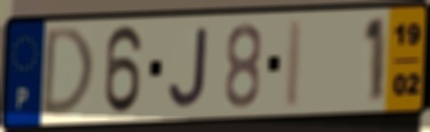1: (361, 15, 389, 106)
6: (102, 24, 144, 117)
8: (223, 20, 263, 110)
D: (39, 24, 97, 121)
I: (281, 17, 307, 111)
J: (167, 24, 211, 110)
